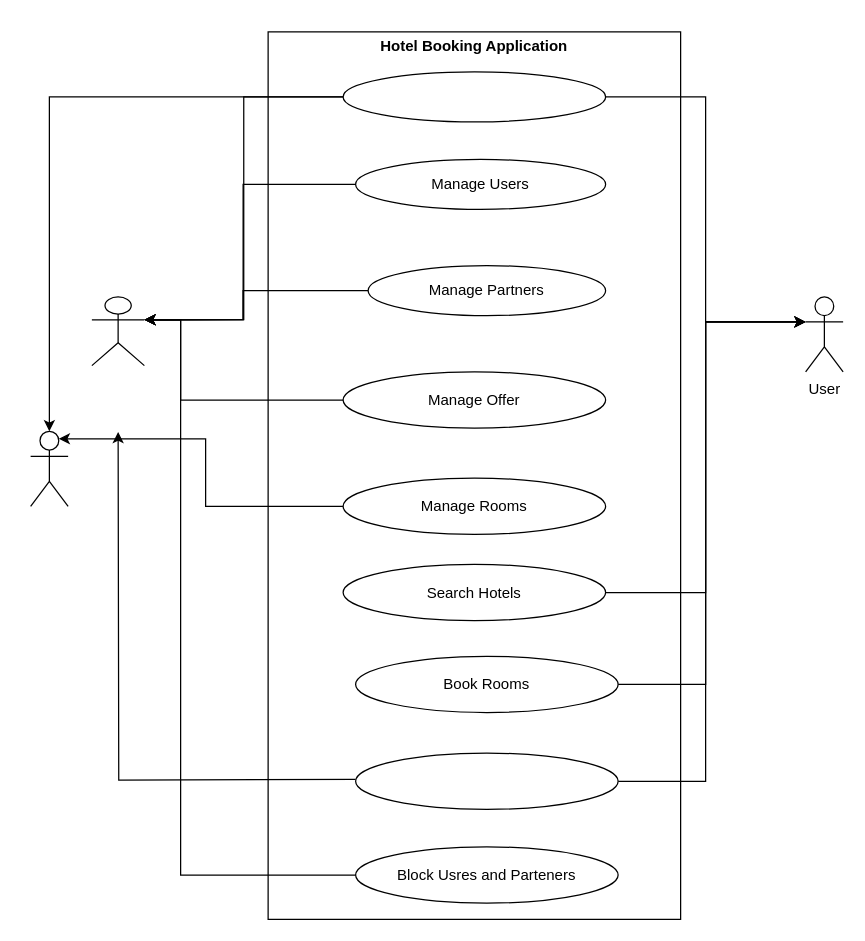
Some shapes in this 865 by 941 pixel diagram are drawn without their labels. The shapes that lost their labels are listed below. From the top down, each one's box as (x1, y1, x2, y2) in pixels, then its label:
(342, 71, 606, 122): Sign-in and signup for system
(91, 296, 144, 366): Admin
(29, 430, 68, 506): Partners
(354, 752, 618, 809): manage complaints
